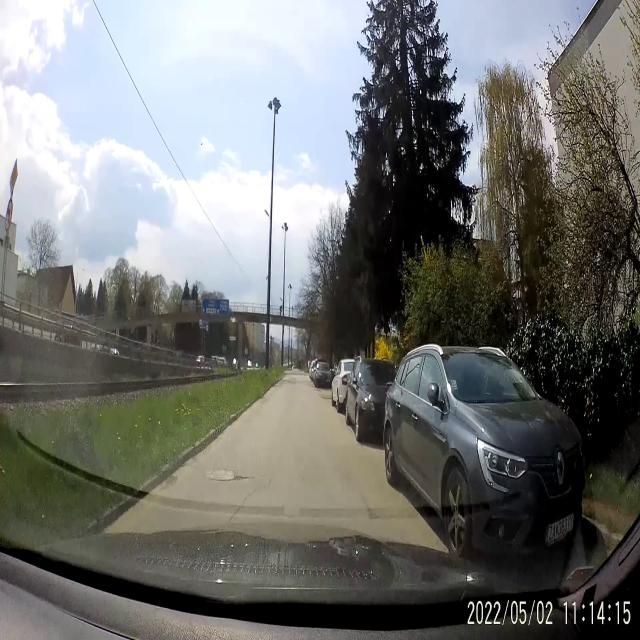Manhole: (206, 464, 236, 486)
